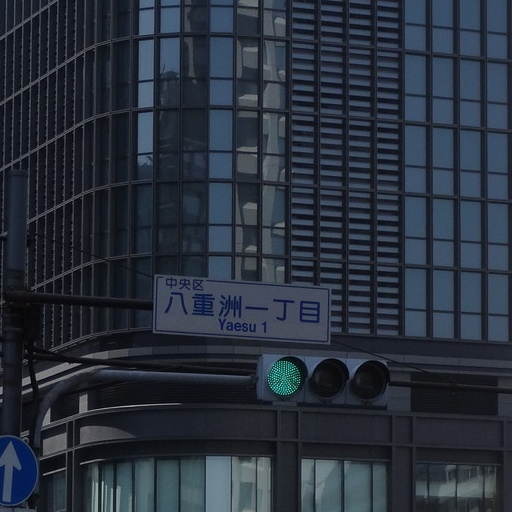Traffic_Signal_Blue: (259, 348, 410, 409)
